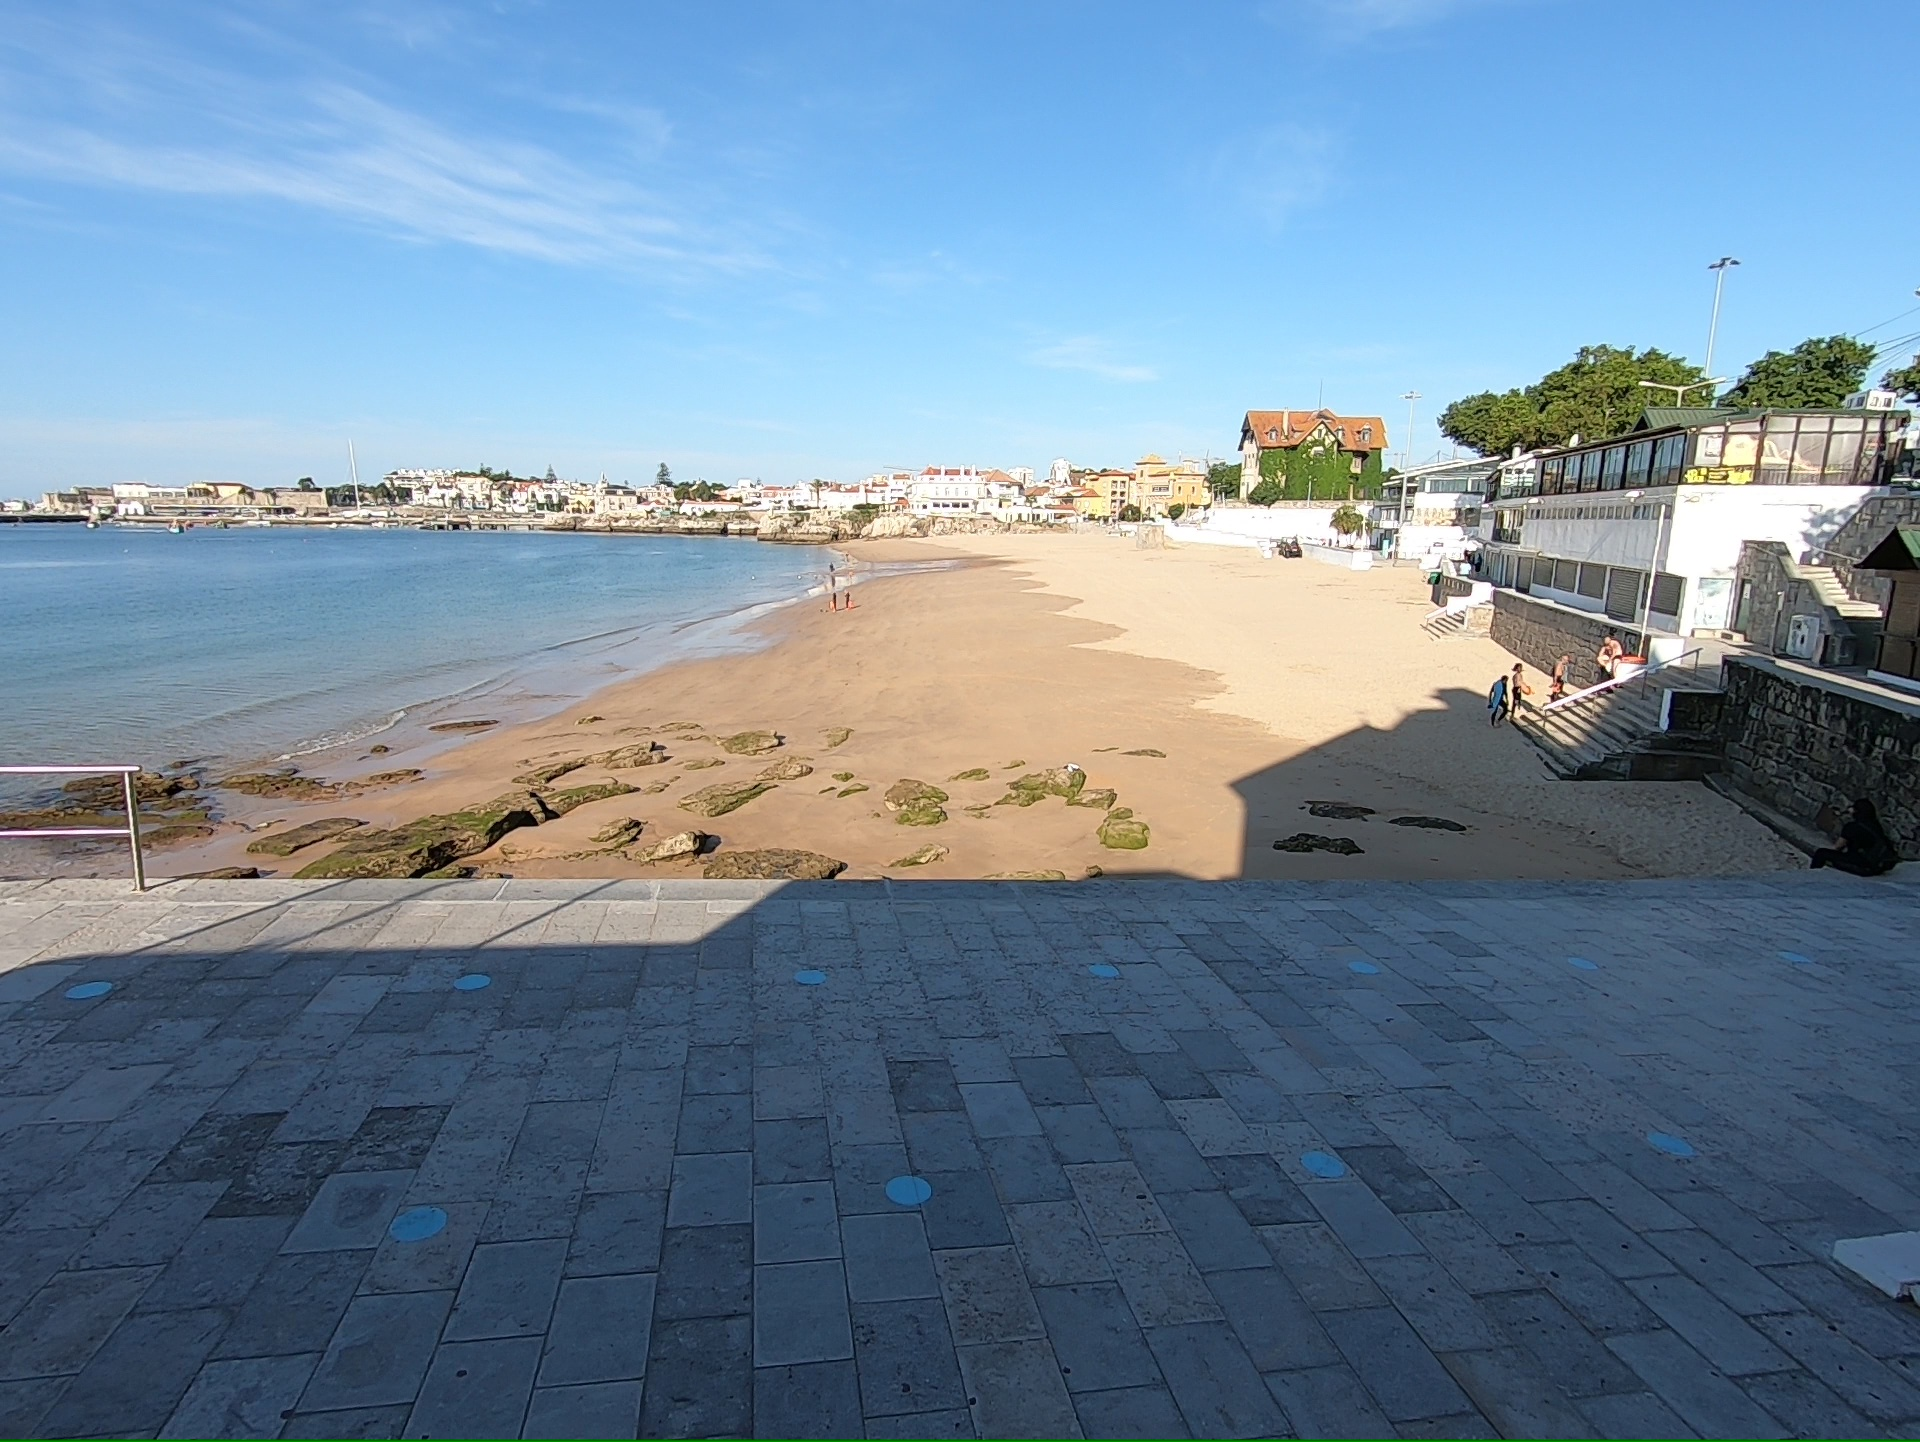person: (1809, 798, 1902, 875), (1597, 636, 1621, 680), (1486, 675, 1507, 726), (1552, 652, 1569, 701), (1510, 664, 1527, 714), (832, 592, 837, 611), (844, 590, 850, 608), (829, 562, 835, 572)
